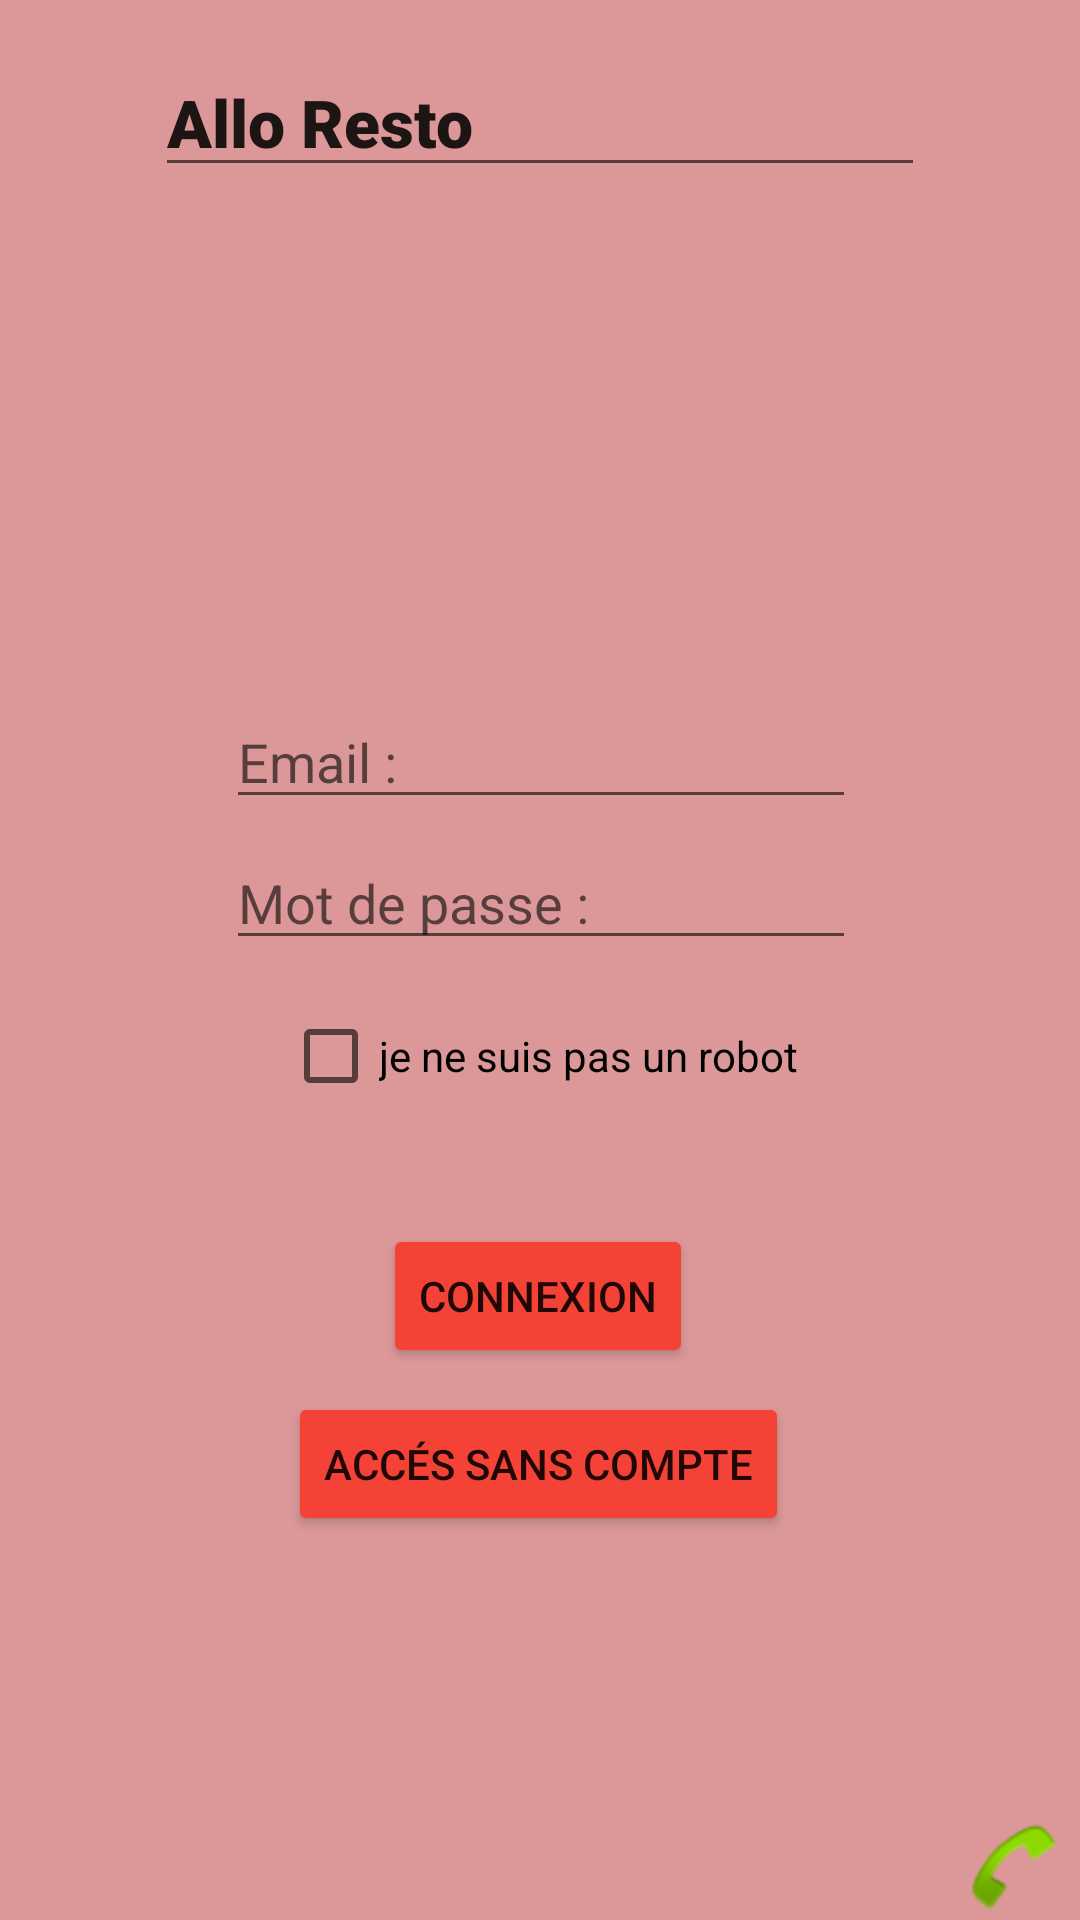

Locate icon controls on the screen. Image size 1080x1920, boxes as [x1, y1, x2, y2].
sym action call: [972, 1825, 1056, 1909]
